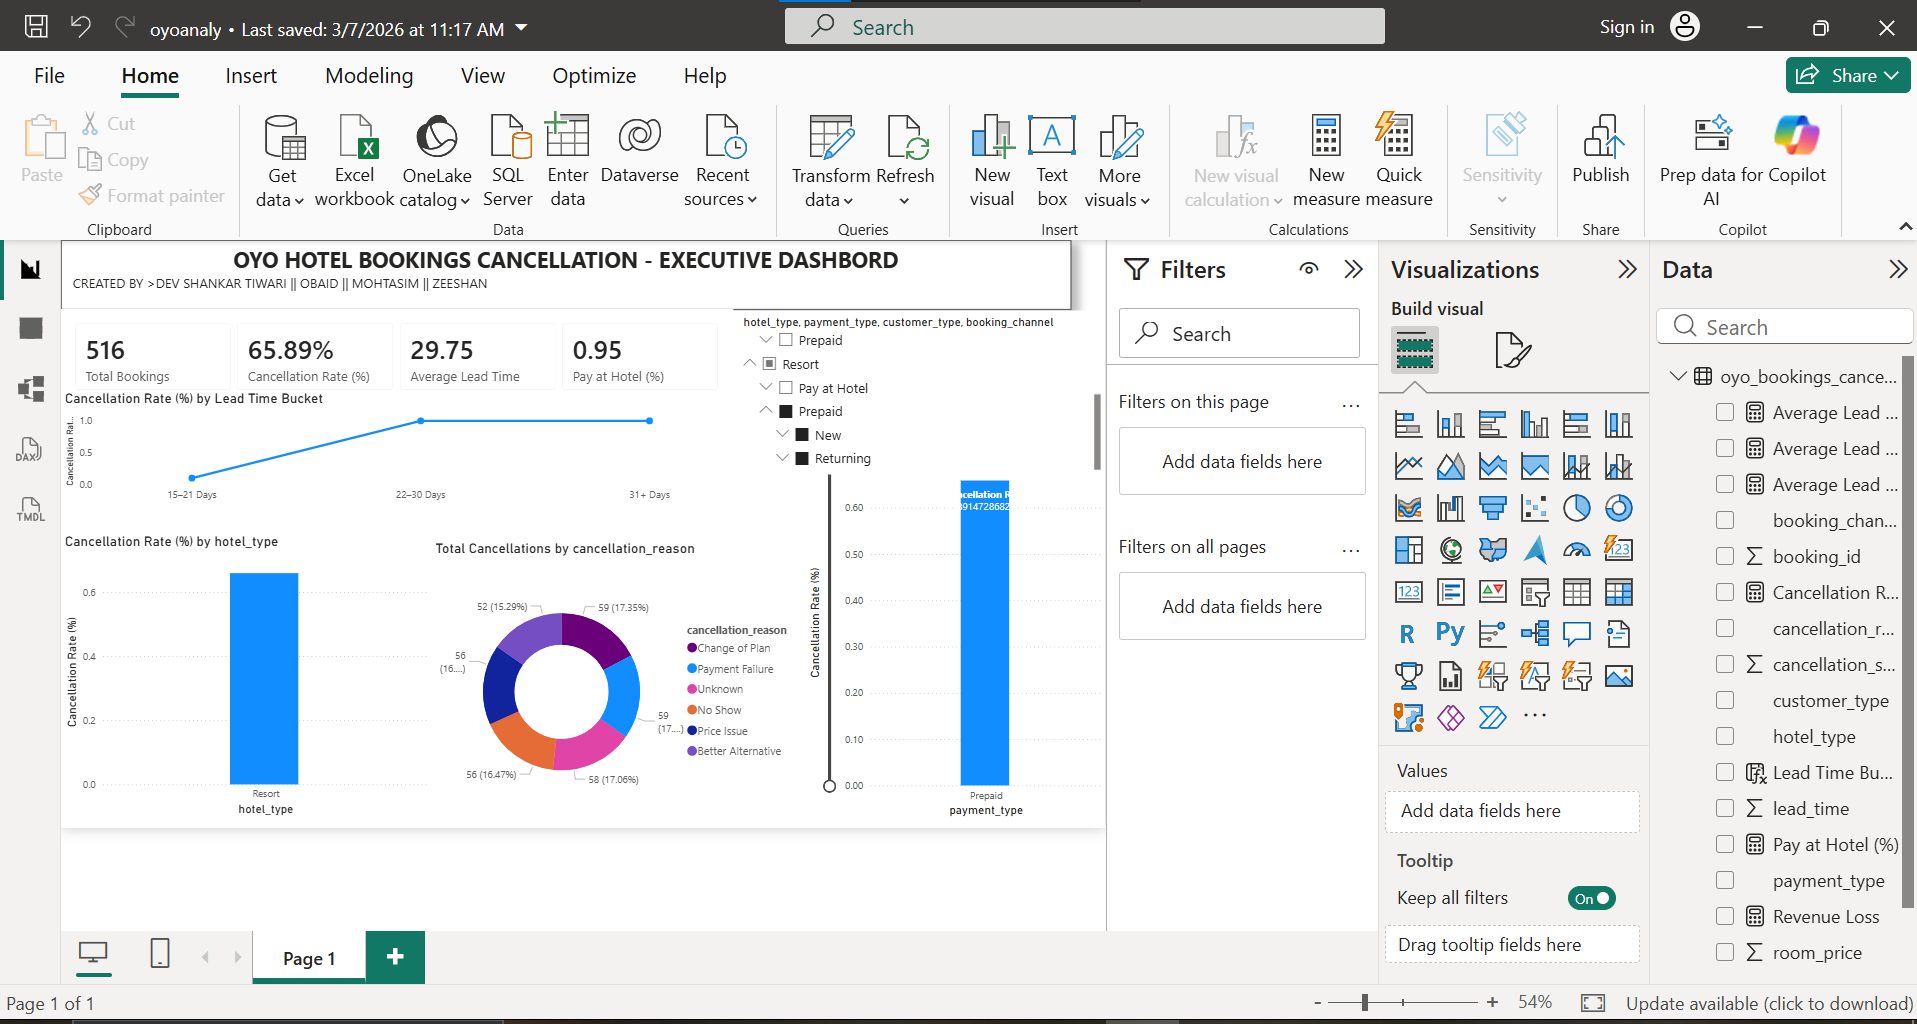

This screenshot's page, from the dashboard's own definition file:
{"tool":"powerbi","page":{"name":"Page 1","canvas":[1280,720],"ordinal":0},"visuals":[{"type":"textbox","box":[0,0,1237.8,85],"z":0},{"type":"cardVisual","fields":{"Data":["oyo_bookings_clean.Total Bookings","oyo_bookings_clean.Cancellation Rate (%)","oyo_bookings_clean.Average Lead Time","oyo_bookings_clean.Pay at Hotel (%)"]},"box":[0,85.1,824.1,116.1],"z":1000},{"type":"lineChart","fields":{"Category":["oyo_bookings_clean.Lead Time Bucket"],"Y":["oyo_bookings_clean.Cancellation Rate (%)"]},"box":[0,184,838,146],"z":2000},{"type":"clusteredColumnChart","fields":{"Category":["oyo_bookings_clean.payment_type"],"Y":["oyo_bookings_clean.Cancellation Rate (%)","select","select1"]},"box":[910,238,370,474],"z":3000},{"type":"columnChart","fields":{"Category":["oyo_bookings_clean.hotel_type"],"Y":["oyo_bookings_clean.Cancellation Rate (%)"]},"box":[0,359.2,454.9,351.4],"z":4000},{"type":"donutChart","fields":{"Category":["oyo_bookings_clean.cancellation_reason"],"Y":["oyo_bookings_clean.Total Cancellations"]},"box":[454,368,456,352],"z":5000},{"type":"slicer","fields":{"Values":["oyo_bookings_clean.hotel_type","oyo_bookings_clean.payment_type","oyo_bookings_clean.customer_type","oyo_bookings_clean.booking_channel"]},"box":[824,86,432,196],"z":6000}]}

Visuals, with their boxes on the page's 1280x720 design canvas (x1, y1, x2, y2). These are canvas units, not pixel positions in the 1917x1024 screenshot, which may show the page scaled, cropped or inside an application window:
textbox: 0/0/1238/85
cardVisual - oyo_bookings_clean.Total Bookings x oyo_bookings_clean.Cancellation Rate (%): 0/85/824/201
lineChart - oyo_bookings_clean.Lead Time Bucket x oyo_bookings_clean.Cancellation Rate (%): 0/184/838/330
clusteredColumnChart - oyo_bookings_clean.payment_type x oyo_bookings_clean.Cancellation Rate (%): 910/238/1280/712
columnChart - oyo_bookings_clean.hotel_type x oyo_bookings_clean.Cancellation Rate (%): 0/359/455/711
donutChart - oyo_bookings_clean.cancellation_reason x oyo_bookings_clean.Total Cancellations: 454/368/910/720
slicer - oyo_bookings_clean.hotel_type x oyo_bookings_clean.payment_type: 824/86/1256/282
